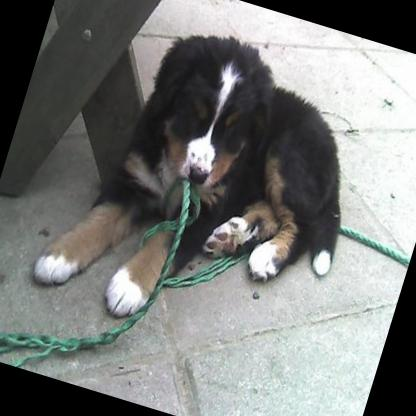Bernese_mountain_dog: (25, 0, 388, 372)
